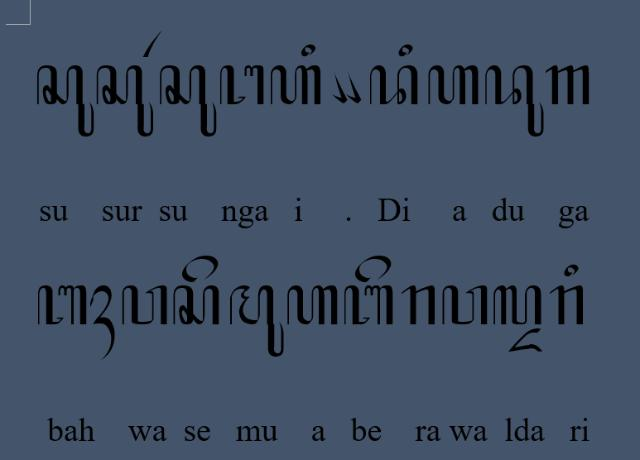_d: (507, 327, 543, 355)
_h1: (89, 284, 115, 360)
_r1: (142, 29, 162, 59)
b: (342, 284, 398, 328), (36, 283, 88, 327)
d: (484, 63, 544, 137), (368, 64, 419, 105)
e: (354, 252, 392, 284), (181, 254, 219, 284)
g: (544, 64, 590, 106)
h: (285, 282, 341, 328), (426, 63, 480, 107), (268, 65, 324, 107)
i: (398, 42, 414, 60), (300, 42, 316, 58), (563, 263, 579, 279)
kom: (331, 70, 349, 104), (346, 68, 362, 104)
l: (492, 285, 544, 327)
mu: (228, 284, 286, 358)
nga: (218, 63, 266, 105)
r: (549, 284, 585, 326), (402, 284, 436, 326)
s: (172, 285, 222, 327)
su: (94, 66, 156, 138), (158, 64, 218, 138), (36, 65, 94, 138)
w: (442, 283, 488, 327), (120, 284, 168, 326)
